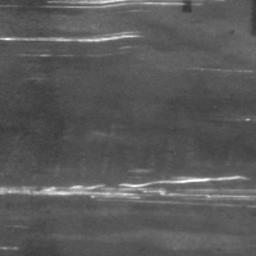Bright scratch: (0, 175, 256, 202), (0, 31, 141, 44)
